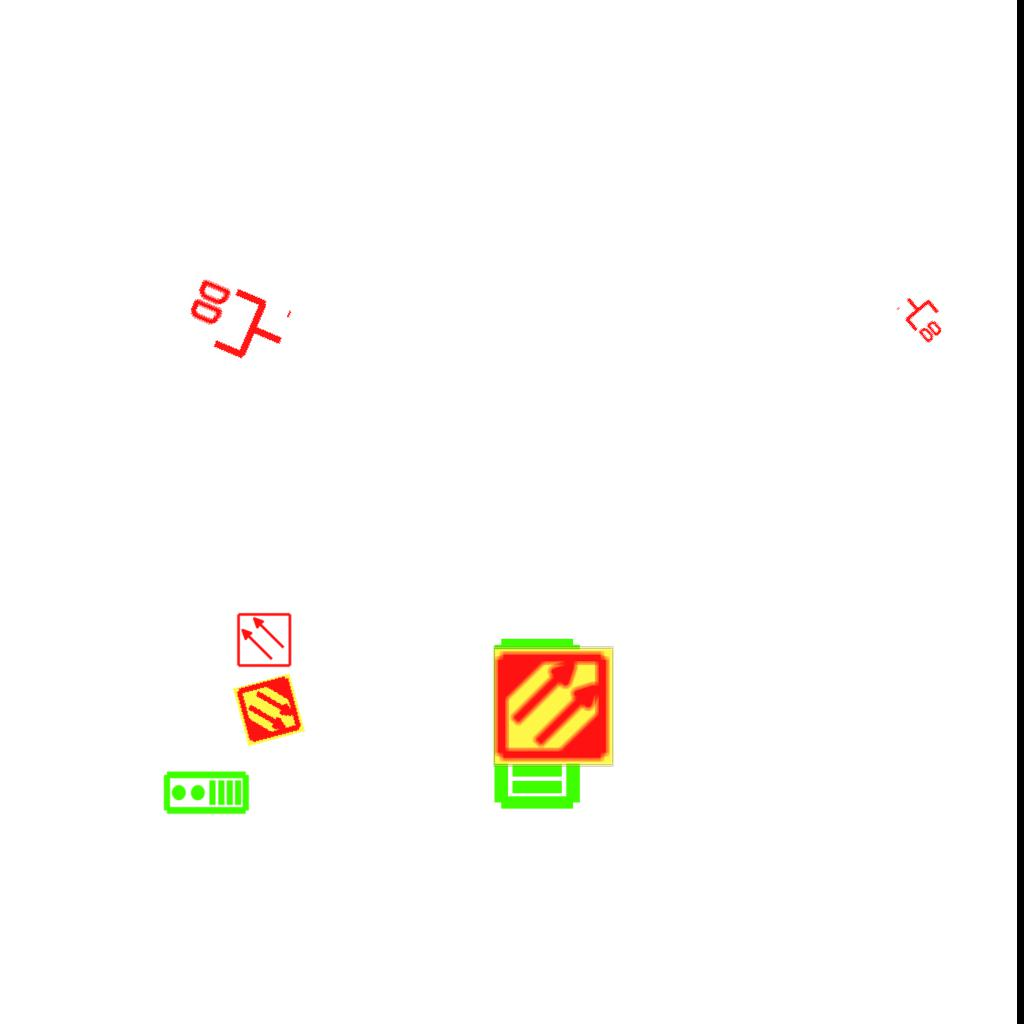ASR_Ansaugrauchmelder: (491, 644, 616, 769), (231, 672, 307, 748)
Datenanschluss_zweifach: (174, 271, 297, 376), (894, 286, 954, 347)
Gegensprechanlage_mit_Video: (488, 635, 583, 811), (162, 770, 250, 817)
RMO_Rauchmelder_optischer: (236, 612, 292, 668)
